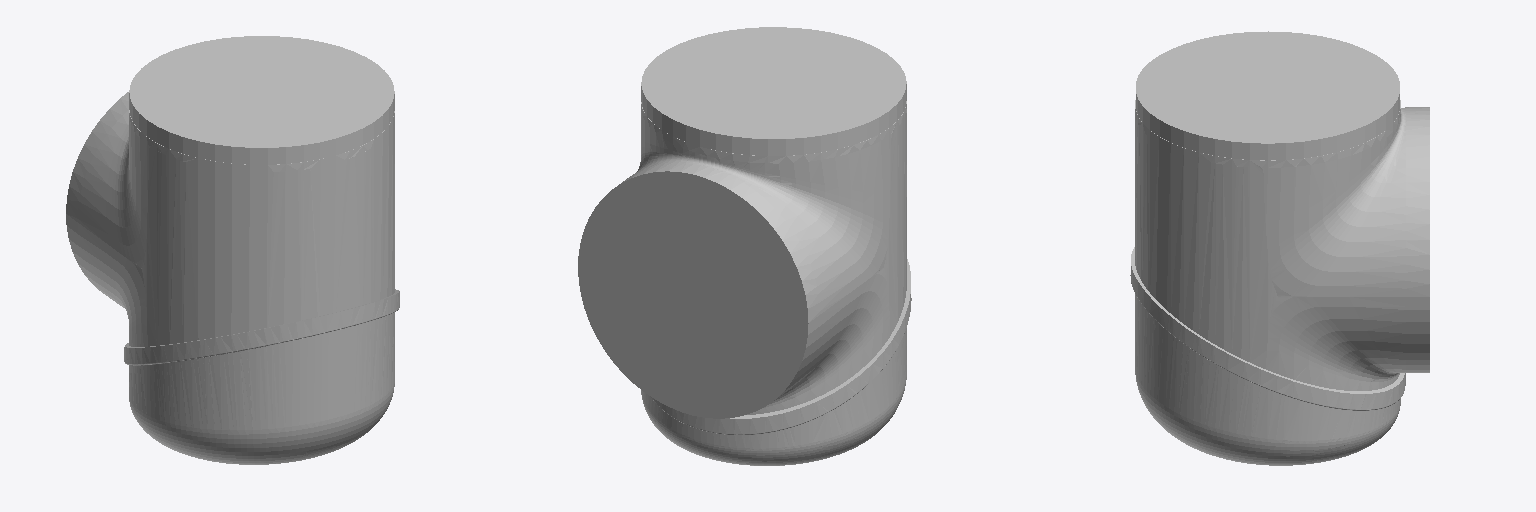
The model's file is wrist2.obj.
3 views of the same model, side by side, from view 1: azimuth 30°, elevation 25°; view 2: azimuth 150°, elevation 25°; view 3: azimuth 270°, elevation 25° (orthographic).
Visible parts, largest first — view 1: Actor0_ActorShape0_0-Mesh.026, Actor1_ActorShape1_0-Mesh.020; view 2: Actor0_ActorShape0_0-Mesh.026, Actor1_ActorShape1_0-Mesh.020; view 3: Actor0_ActorShape0_0-Mesh.026, Actor1_ActorShape1_0-Mesh.020.
Boxes of the visible parts, <box> form: Actor0_ActorShape0_0-Mesh.026: <box>66,36,394,346</box>; Actor1_ActorShape1_0-Mesh.020: <box>124,289,399,464</box>; Actor0_ActorShape0_0-Mesh.026: <box>578,27,906,418</box>; Actor1_ActorShape1_0-Mesh.020: <box>641,259,911,465</box>; Actor0_ActorShape0_0-Mesh.026: <box>1135,31,1429,390</box>; Actor1_ActorShape1_0-Mesh.020: <box>1130,247,1405,465</box>.
Size of the model in its own units: 0.0775 by 0.1047 by 0.0842.